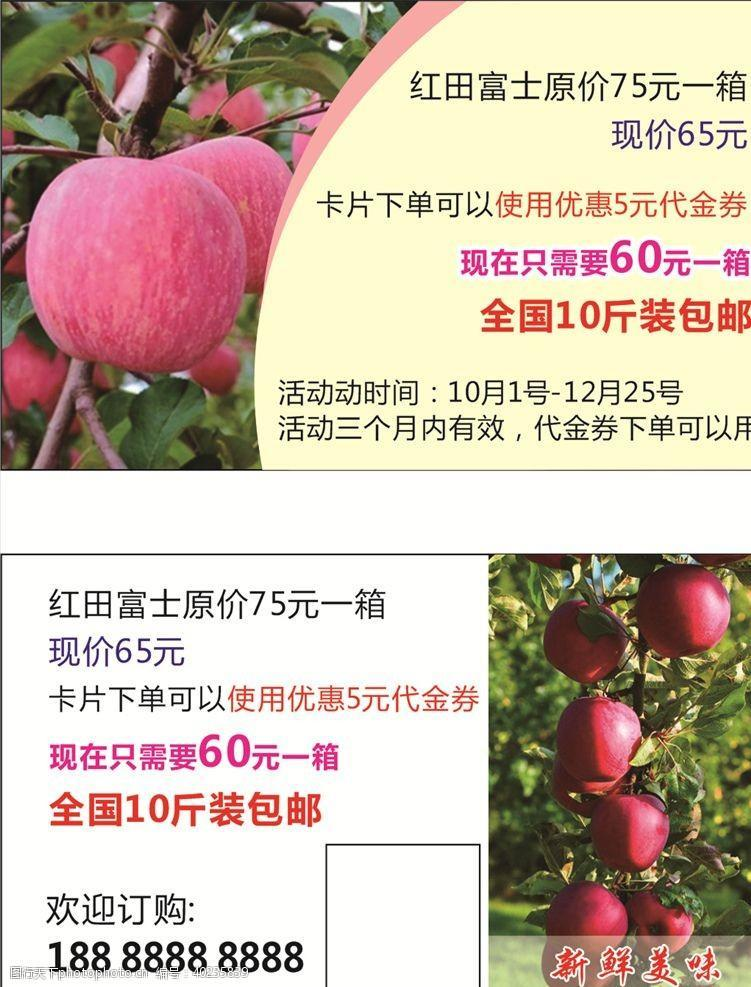apple: (28, 160, 255, 373), (152, 133, 292, 297), (634, 561, 729, 657), (1, 324, 83, 433), (540, 596, 629, 684), (554, 698, 640, 784), (588, 792, 668, 871), (543, 882, 625, 954), (627, 891, 694, 953)
